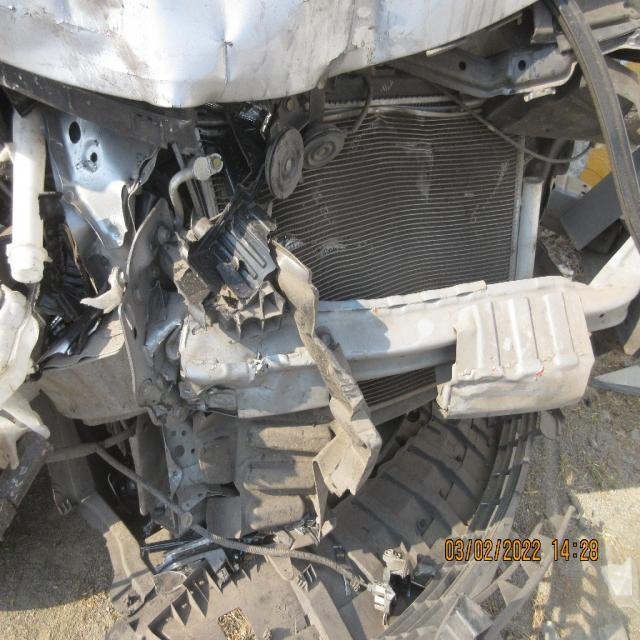damage: (1, 61, 629, 414), (0, 0, 115, 31)
